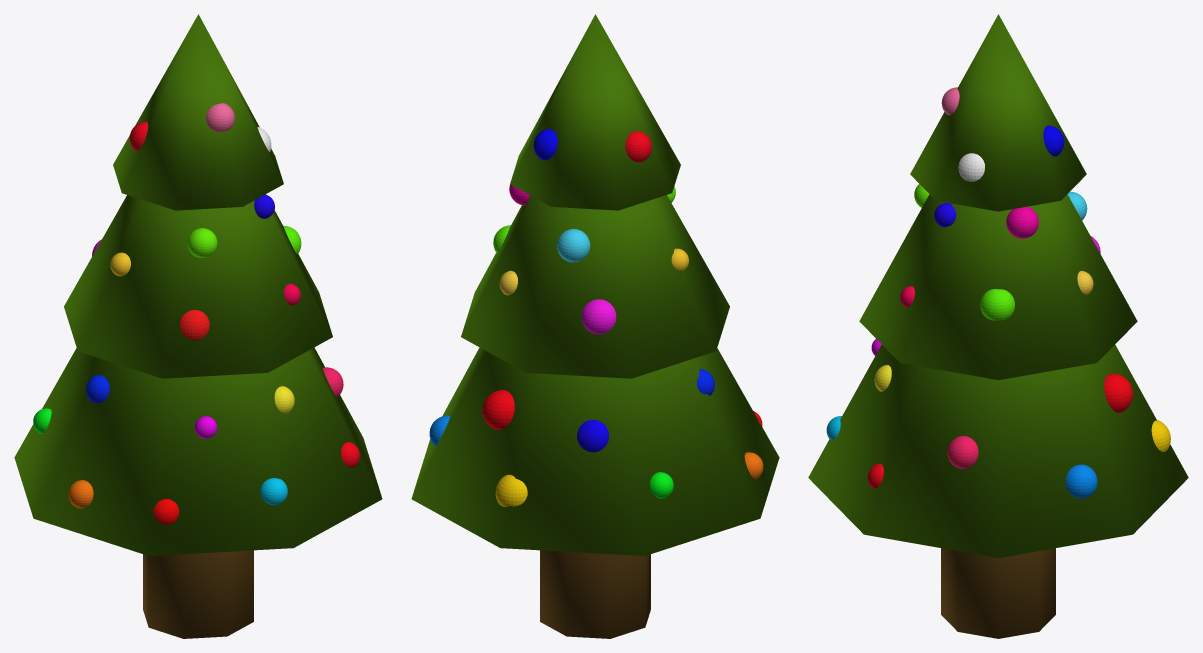
File: tree.gltf
The picture shows the model from 3 angles, left to right: view 1: azimuth 30°, elevation 25°; view 2: azimuth 150°, elevation 25°; view 3: azimuth 270°, elevation 25°; orthographic projection.
Parts seen in each view (by area): view 1: Cone, Cone.001, Cone.002, Cylinder, Sphere.081, Sphere.080, Sphere.083, Sphere.100, Sphere.101, Sphere.084, Sphere.077; view 2: Cone, Cone.001, Cone.002, Cylinder, Sphere.091, Sphere.097, Sphere.093, Sphere.096, Sphere.095, Sphere.098, Sphere.092, Sphere.086; view 3: Cone, Cone.001, Cone.002, Cylinder, Sphere.088, Sphere.091, Sphere.090, Sphere.089, Sphere.087, Sphere.099.
Part boxes in pixels (x1=…): Cone: x1=14, y1=347, x2=382, y2=556; Cone.001: x1=64, y1=194, x2=332, y2=378; Cone.002: x1=113, y1=14, x2=283, y2=210; Cylinder: x1=143, y1=550, x2=253, y2=638; Sphere.081: x1=187, y1=228, x2=217, y2=257; Sphere.080: x1=180, y1=310, x2=209, y2=339; Sphere.083: x1=206, y1=103, x2=234, y2=131; Sphere.100: x1=260, y1=478, x2=287, y2=505; Sphere.101: x1=68, y1=480, x2=93, y2=508; Sphere.084: x1=86, y1=375, x2=109, y2=403; Sphere.077: x1=153, y1=499, x2=179, y2=524; Cone: x1=411, y1=347, x2=779, y2=556; Cone.001: x1=461, y1=195, x2=729, y2=378; Cone.002: x1=510, y1=14, x2=680, y2=210; Cylinder: x1=540, y1=550, x2=650, y2=638; Sphere.091: x1=482, y1=390, x2=514, y2=429; Sphere.097: x1=581, y1=299, x2=616, y2=334; Sphere.093: x1=557, y1=229, x2=590, y2=262; Sphere.096: x1=577, y1=420, x2=608, y2=452; Sphere.095: x1=495, y1=474, x2=527, y2=506; Sphere.098: x1=625, y1=131, x2=651, y2=162; Sphere.092: x1=533, y1=129, x2=557, y2=160; Sphere.086: x1=650, y1=472, x2=673, y2=498; Cone: x1=808, y1=344, x2=1188, y2=557; Cone.001: x1=859, y1=194, x2=1137, y2=380; Cone.002: x1=910, y1=14, x2=1086, y2=211; Cylinder: x1=941, y1=548, x2=1055, y2=638; Sphere.088: x1=980, y1=289, x2=1014, y2=320; Sphere.091: x1=1104, y1=373, x2=1132, y2=412; Sphere.090: x1=1065, y1=464, x2=1097, y2=498; Sphere.089: x1=1006, y1=206, x2=1038, y2=238; Sphere.087: x1=947, y1=436, x2=978, y2=468; Sphere.099: x1=958, y1=153, x2=984, y2=181.
Size of the model in its own units: 2.27 by 3.96 by 2.27.
